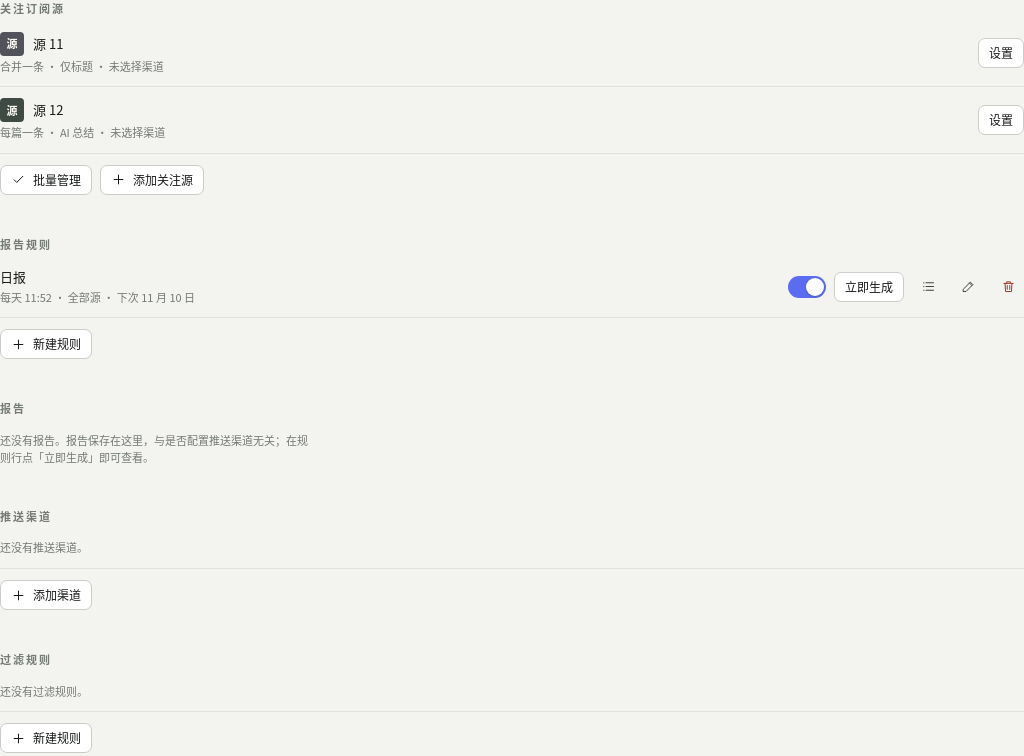
it: AutomationSettings › batch edits selected watched sources
Expected: the text "源 11" is shown, x1=33 y1=34 x2=63 y2=53
Click the button "批量管理" at point(46, 180), box x1=0 y1=165 x2=92 y2=195
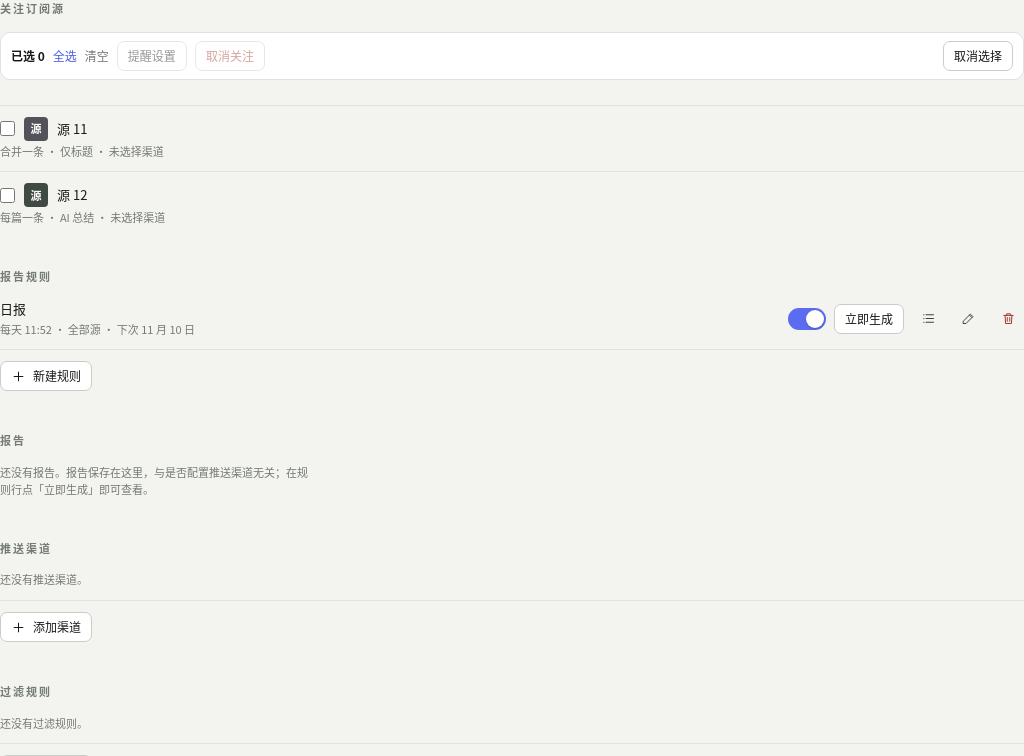
Click the checkbox named "选择 源 11" at point(8, 128), box x1=0 y1=121 x2=15 y2=136
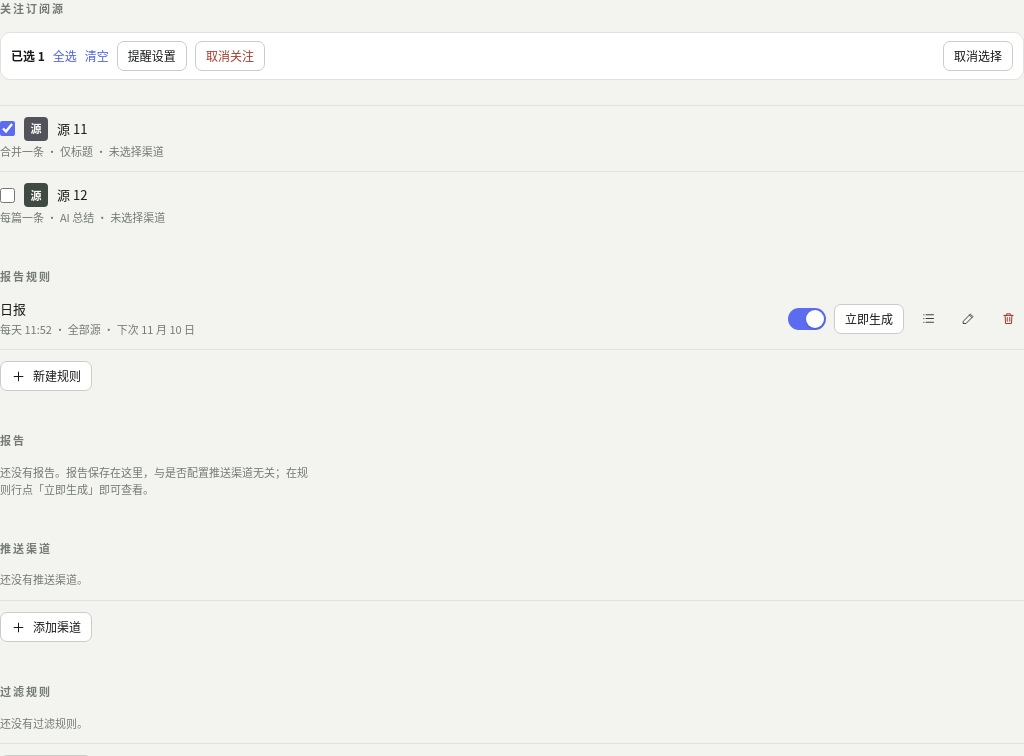
Click the checkbox named "选择 源 12" at point(8, 195), box x1=0 y1=188 x2=15 y2=203
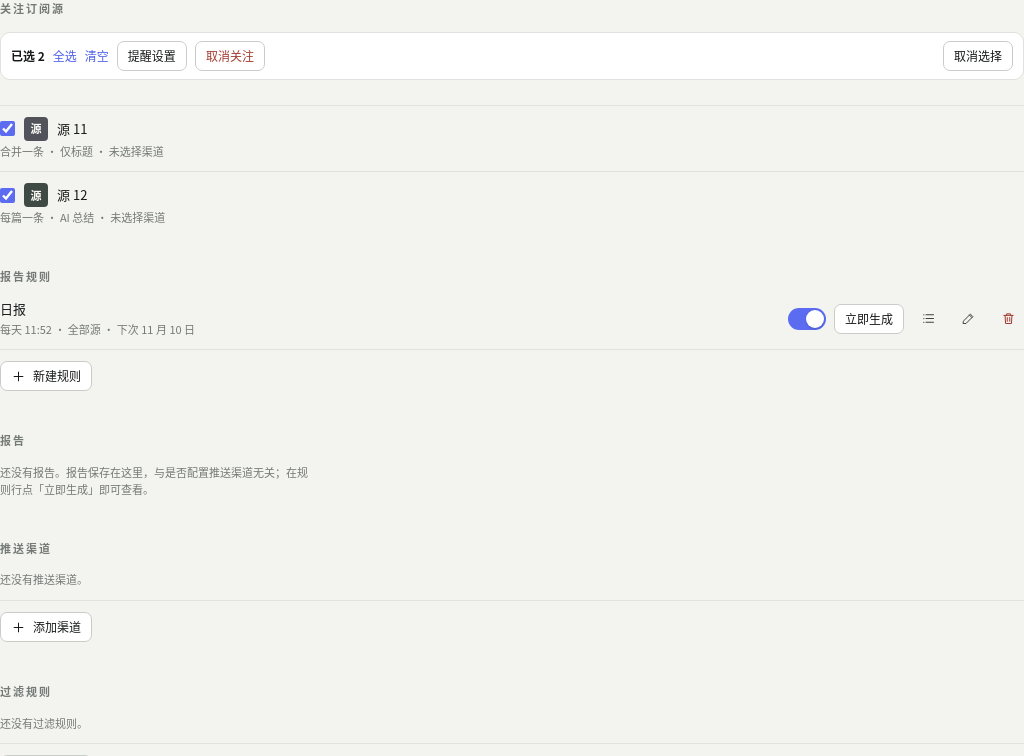
Now the text "已选 2" is shown, box x1=11 y1=46 x2=45 y2=64
Click the button "提醒设置" at point(152, 56), box x1=117 y1=40 x2=187 y2=70
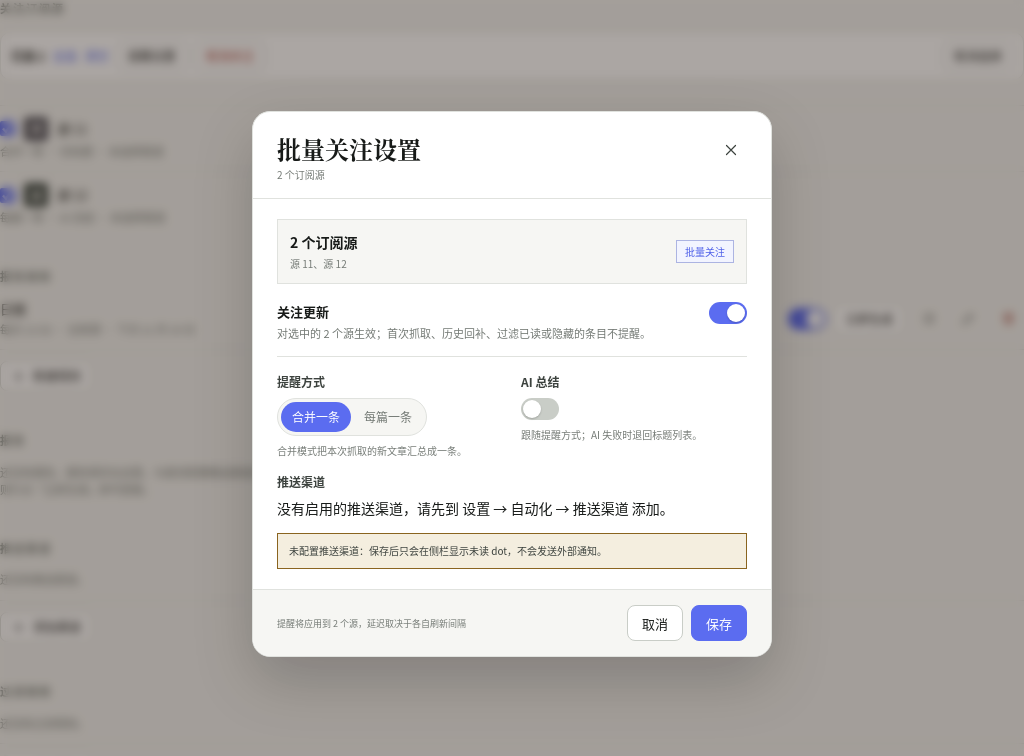
Now the heading "批量关注设置" is shown, box x1=277 y1=134 x2=421 y2=164
Now the text "2 个订阅源" below "批量关注设置" is shown, box x1=277 y1=167 x2=325 y2=182
